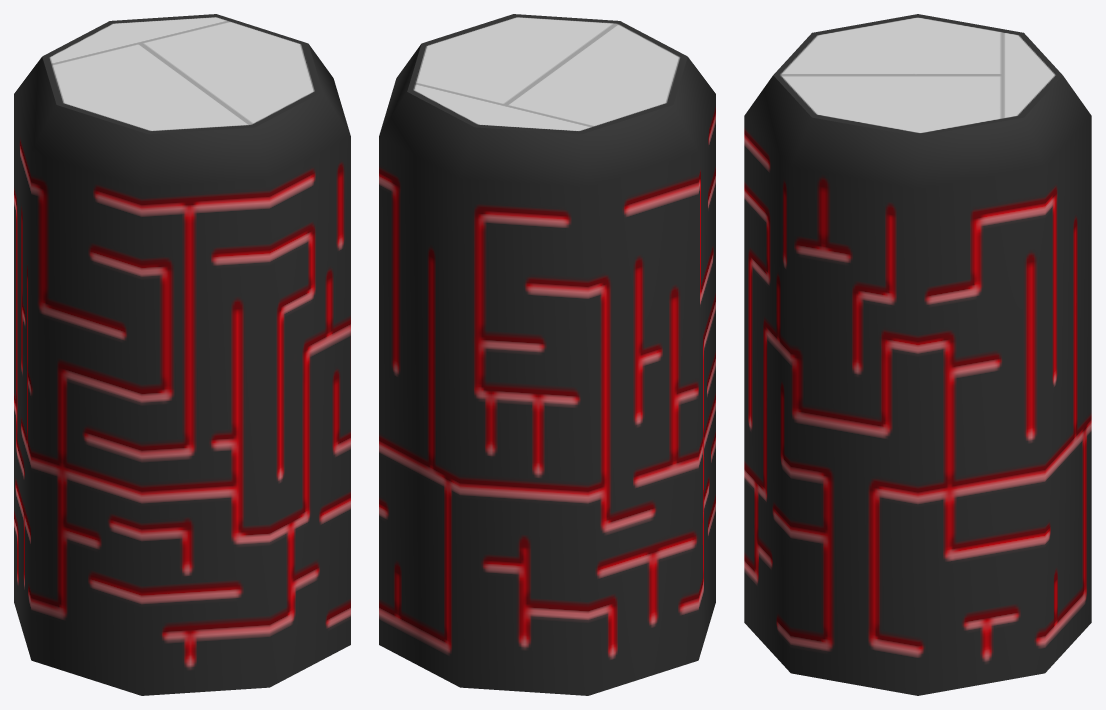
The model's file is CapacitorCylinders3.fbx.
The picture shows the model from 3 angles, left to right: view 1: azimuth 30°, elevation 25°; view 2: azimuth 150°, elevation 25°; view 3: azimuth 270°, elevation 25°; orthographic projection.
Visible parts, largest first — view 1: CapacitorCylinders3; view 2: CapacitorCylinders3; view 3: CapacitorCylinders3.
Boxes of the visible parts, box(x1,y1,x2,y2) form: CapacitorCylinders3: box(14, 14, 350, 695); CapacitorCylinders3: box(379, 14, 715, 695); CapacitorCylinders3: box(744, 14, 1091, 695).
Size of the model in its own units: 0.6219 by 1.08 by 0.6219.
